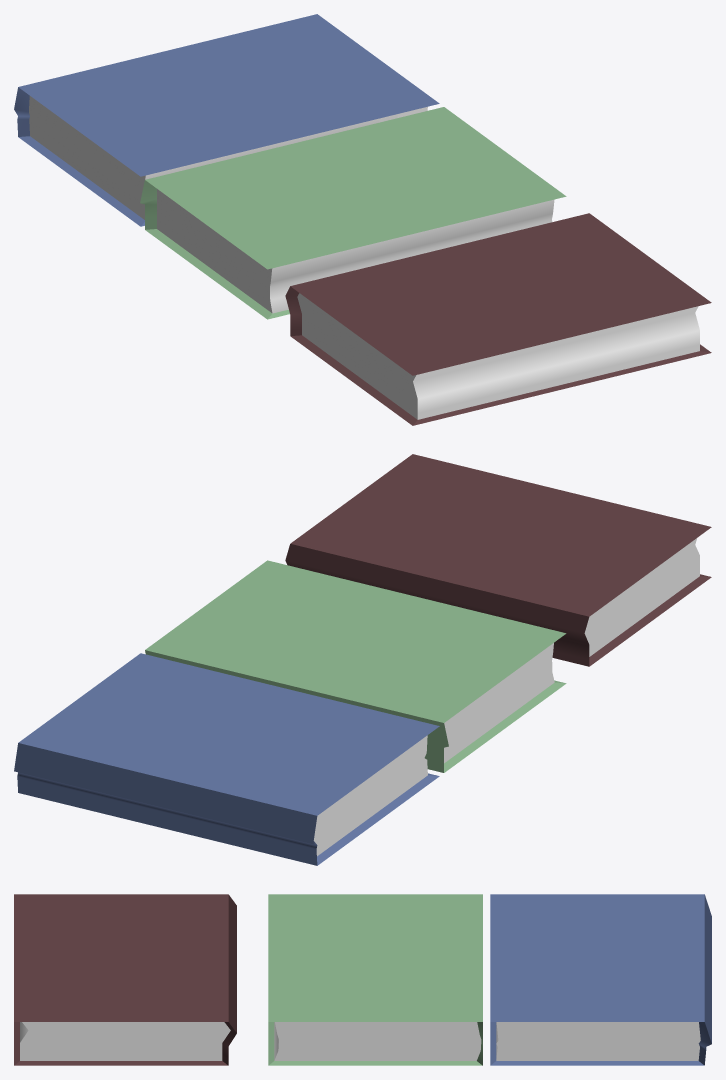
Rendered from books 3 diffrent colors.fbx.
3 views of the same model, one above another, from view 1: azimuth 30°, elevation 25°; view 2: azimuth 150°, elevation 25°; view 3: azimuth 270°, elevation 25° (orthographic). The views are drawn at different scales.
Parts seen in each view (by area): view 1: polySurface1240, polySurface1323, polySurface1324; view 2: polySurface1324, polySurface1240, polySurface1323; view 3: polySurface1240, polySurface1324, polySurface1323.
Part boxes in pixels (x1,y1,x2,y2): polySurface1240: [285, 213, 711, 425]; polySurface1323: [140, 107, 566, 319]; polySurface1324: [14, 14, 439, 226]; polySurface1324: [14, 653, 439, 865]; polySurface1240: [285, 454, 711, 666]; polySurface1323: [145, 560, 566, 772]; polySurface1240: [14, 894, 236, 1065]; polySurface1324: [490, 894, 711, 1065]; polySurface1323: [268, 894, 482, 1065].
Bounding box in the file's own units: 1071 × 169 × 2433.
